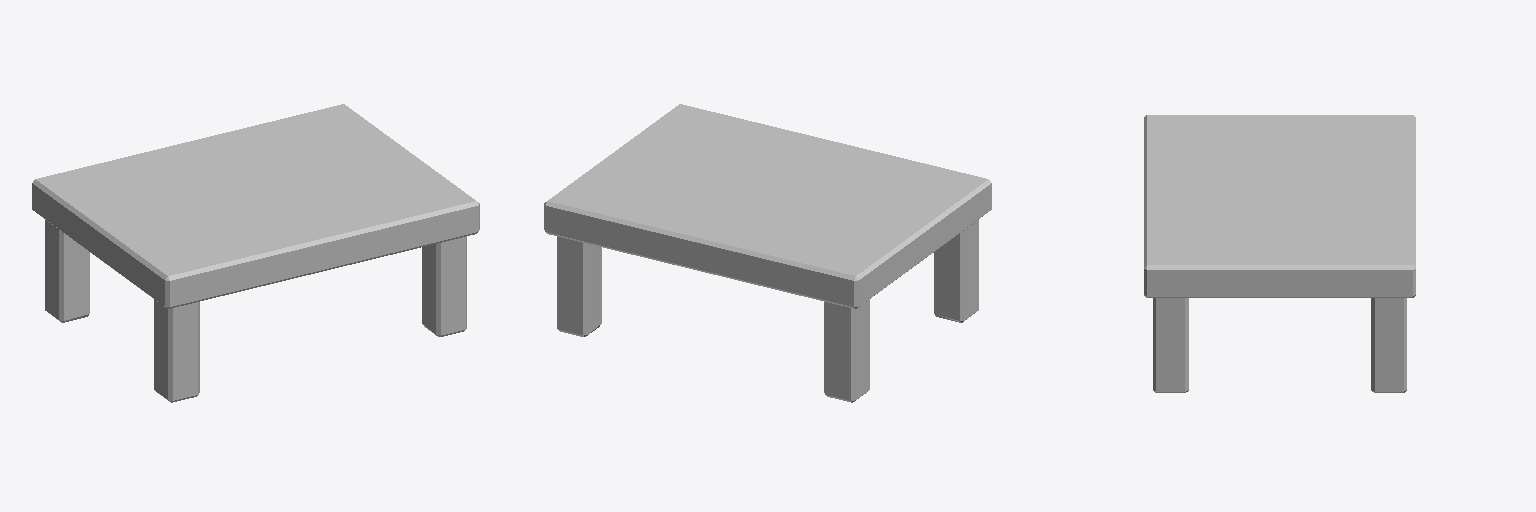
The model's file is table_medium.obj.
The picture shows the model from 3 angles: view 1: azimuth 30°, elevation 25°; view 2: azimuth 150°, elevation 25°; view 3: azimuth 270°, elevation 25°; orthographic projection.
Parts seen in each view (by area): view 1: table_medium_Cube.16118; view 2: table_medium_Cube.16118; view 3: table_medium_Cube.16118.
Boxes of the visible parts, x1,y1,x2,y2 form: table_medium_Cube.16118: [32, 104, 479, 402]; table_medium_Cube.16118: [544, 104, 991, 402]; table_medium_Cube.16118: [1144, 115, 1415, 392].
Bounding box in the file's own units: 2 × 0.8 × 1.5.